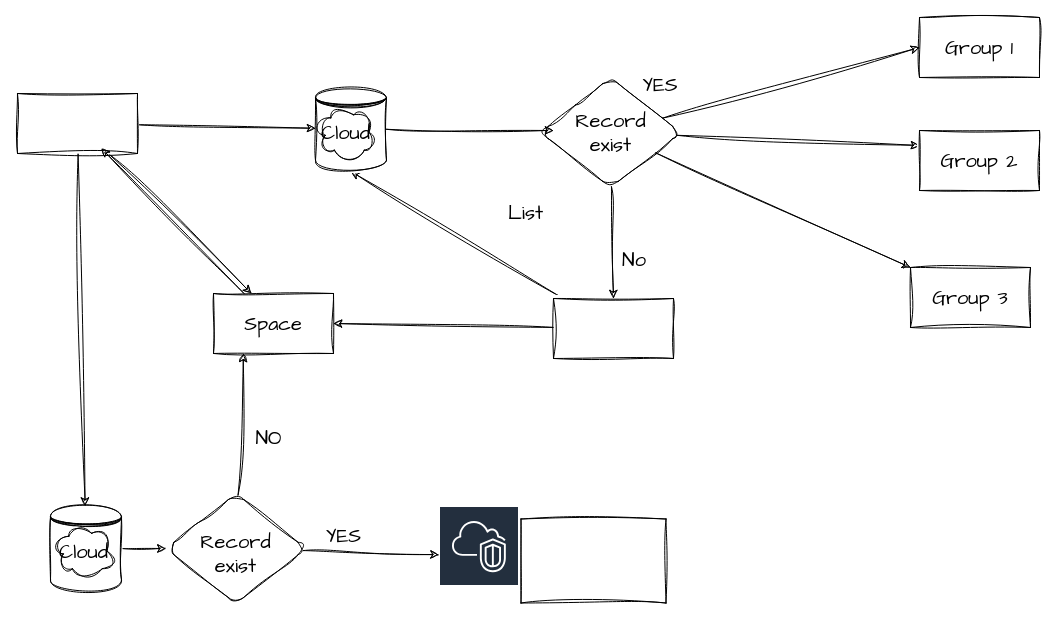
Some shapes in this 1057 by 624 pixel diagram are drawn without their labels. The shapes that lost their labels are listed below. From the top down, each one's box as (x1, y1, x2, y2) in pixels, then its label:
(16, 92, 138, 154): Bot
(552, 298, 674, 358): Reject
(438, 505, 519, 606): Amazon VPC
(520, 518, 666, 603): Group 4 password Proteched
